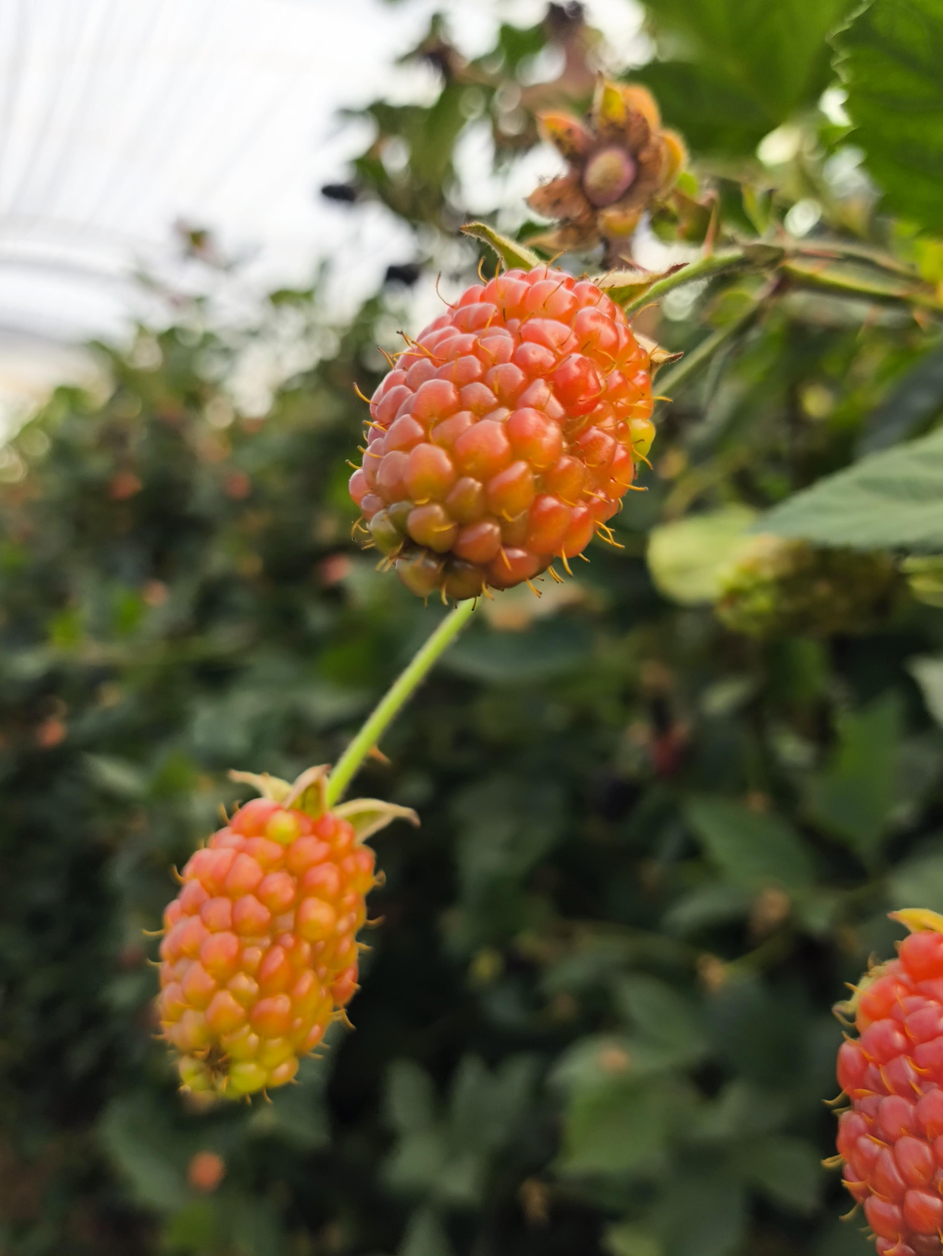naranja: (350, 265, 654, 599), (157, 767, 415, 1098)
